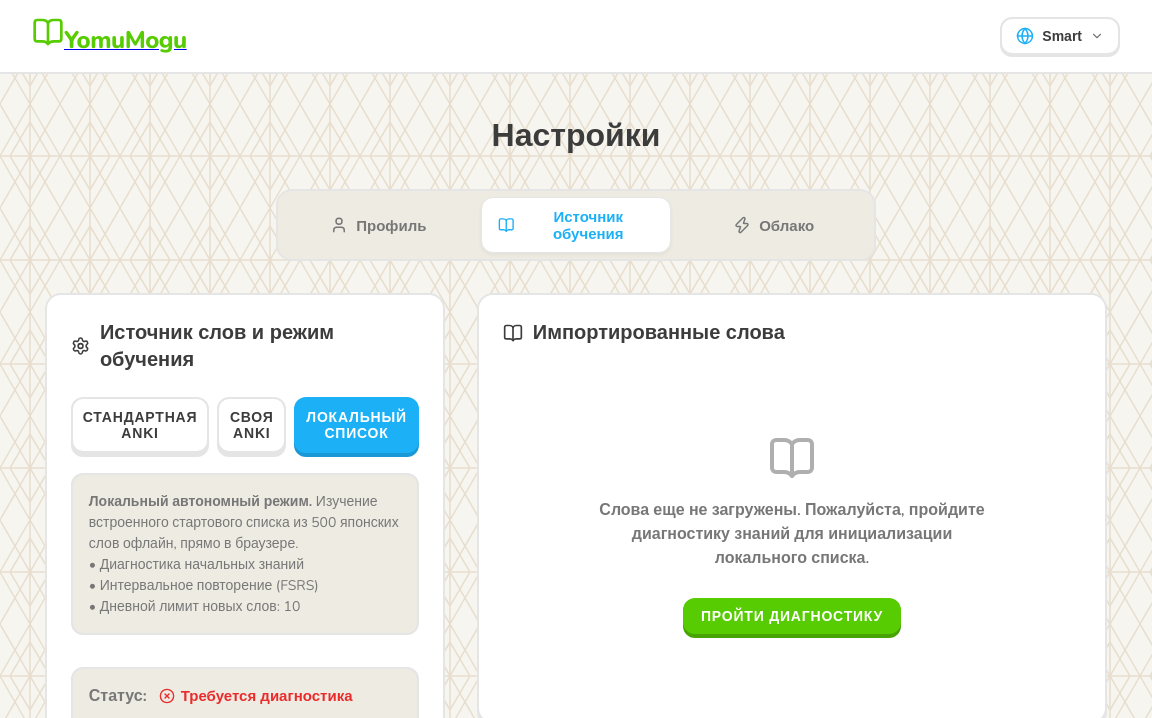
SettingsPage Component › switches tabs correctly
Check: the heading "Источник слов и режим обучения" is shown, box x1=71 y1=319 x2=334 y2=373
Check: the text "Выбор профиля" is not shown
Note: Кликаем по вкладке Профиль
Click the button "Профиль": (378, 225) x1=284 y1=197 x2=473 y2=253
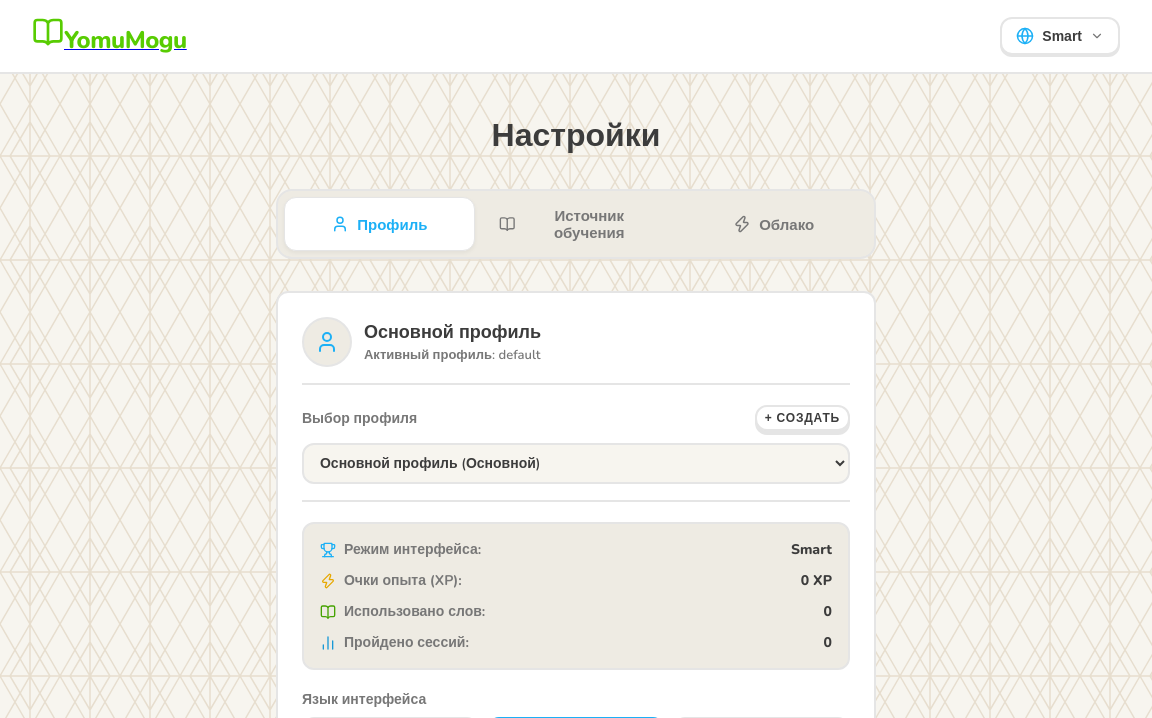
Check: the text "Выбор профиля" is shown, box x1=302 y1=408 x2=417 y2=428
Check: the heading "Источник слов и режим обучения" is gone
Note: Кликаем по вкладке Облако
Click the button "Облако": (774, 224) x1=679 y1=197 x2=868 y2=251
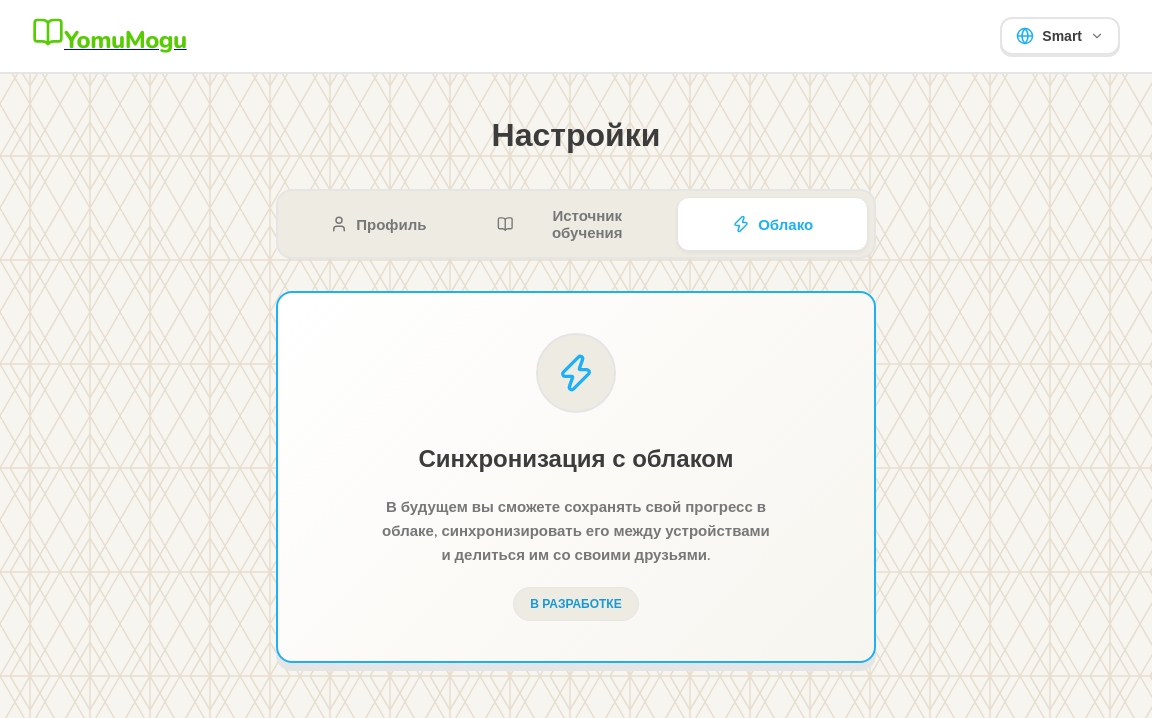
Check: the heading "Синхронизация с облаком" is shown, box x1=418 y1=443 x2=734 y2=475
Check: the text "Выбор профиля" is gone
